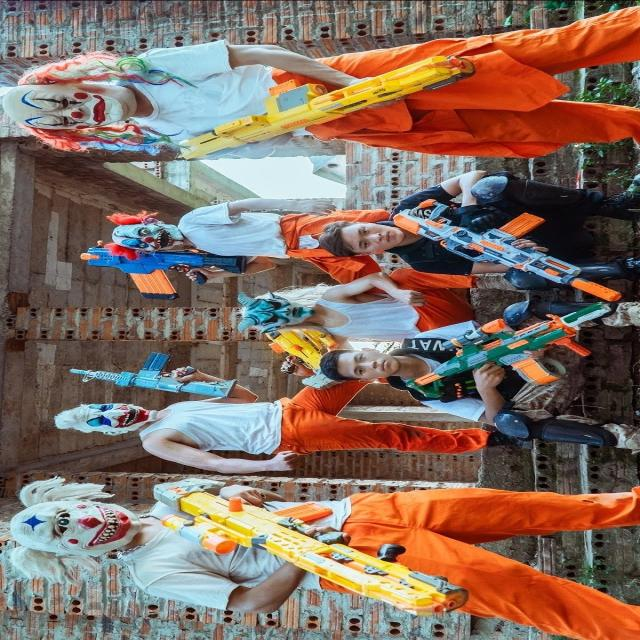Nerf gun: (152, 476, 478, 624), (163, 50, 484, 166), (385, 195, 616, 303), (401, 294, 624, 404), (67, 233, 251, 307), (63, 344, 243, 404), (266, 322, 346, 394)
